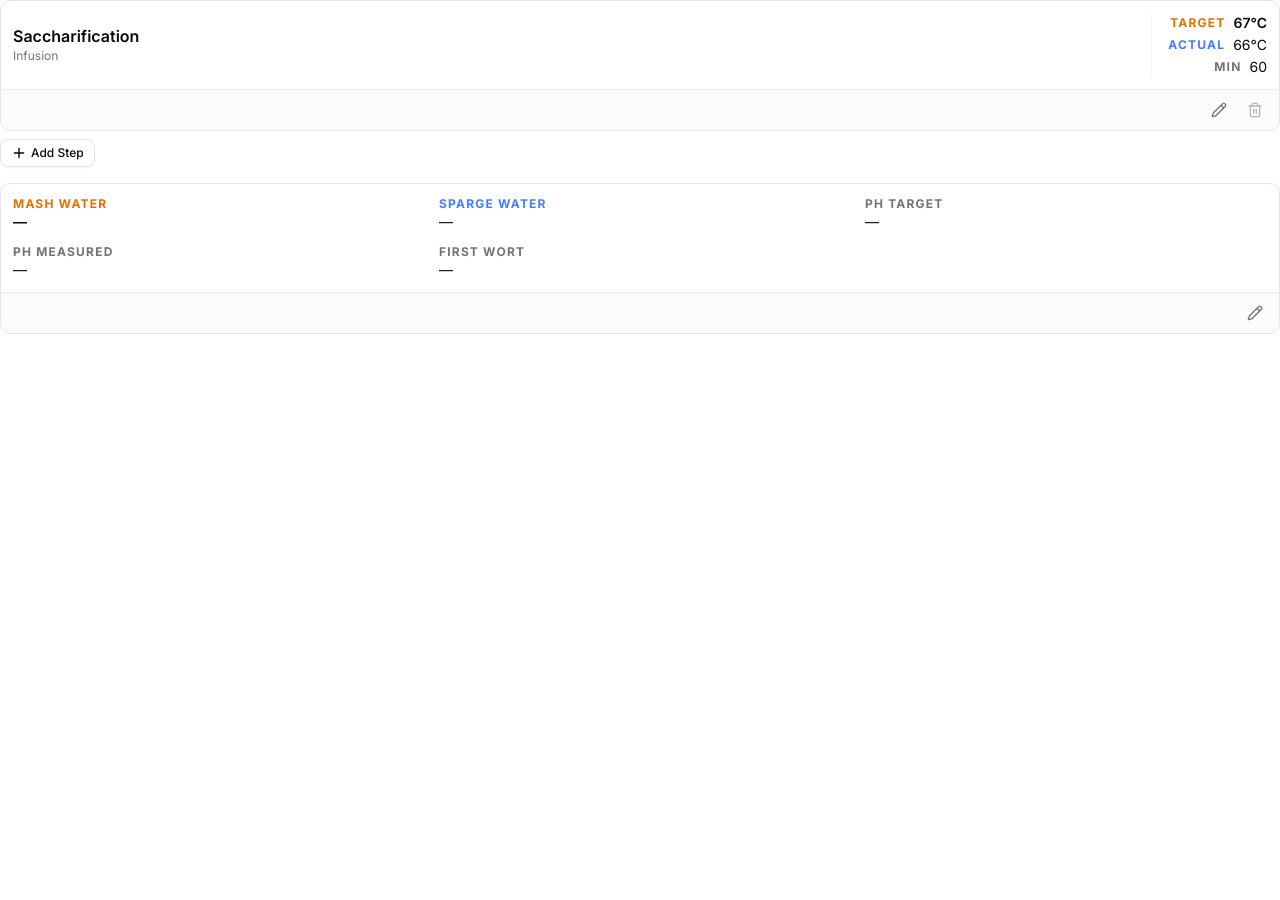
MashSection › edit step flow › pencil button opens the edit dialog with title "Edit Step"
The image size is (1280, 900).
Click the button named "edit step": (1219, 110) [1203,94,1235,126]
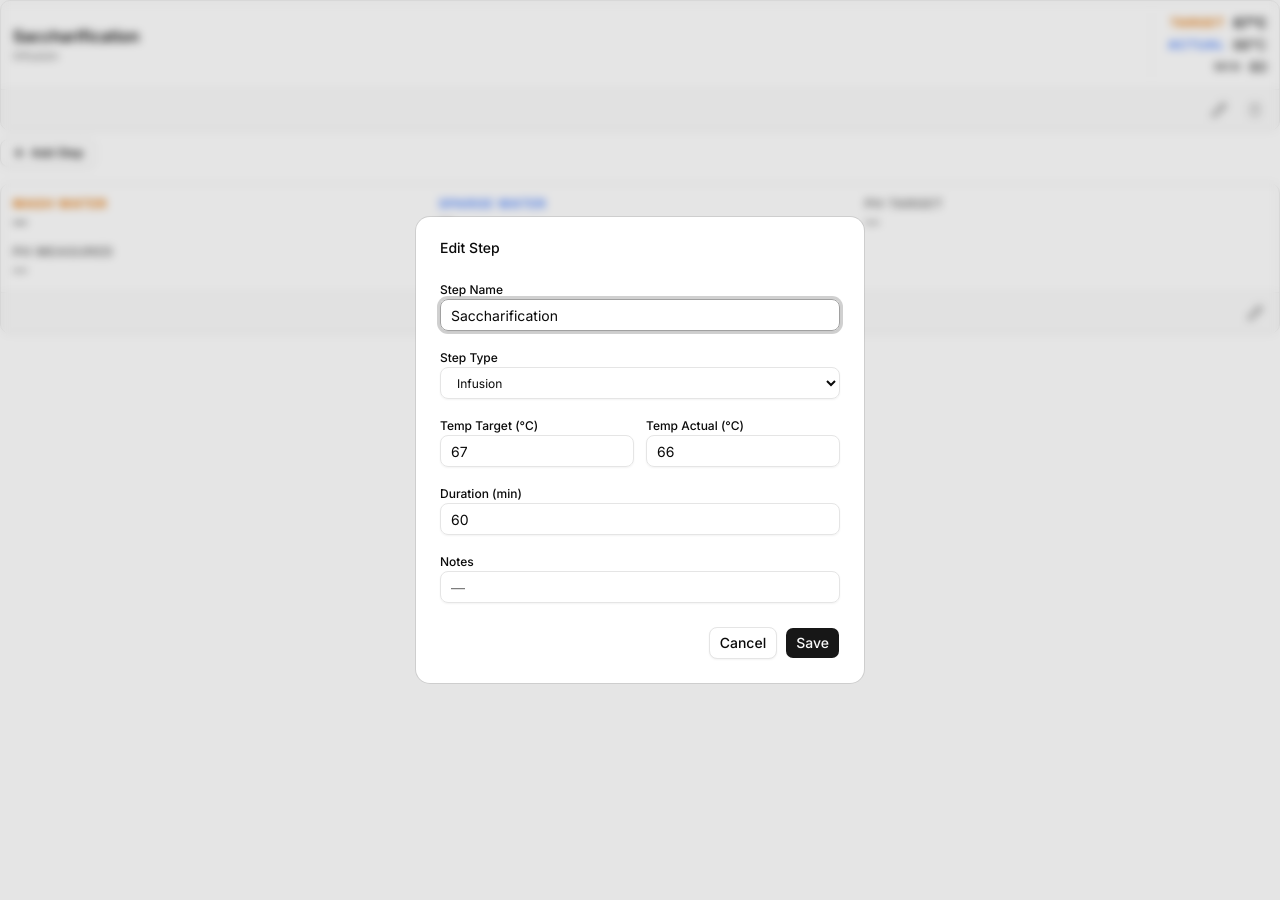
expect the heading "Edit Step" is shown: met, box [440,239,500,256]
